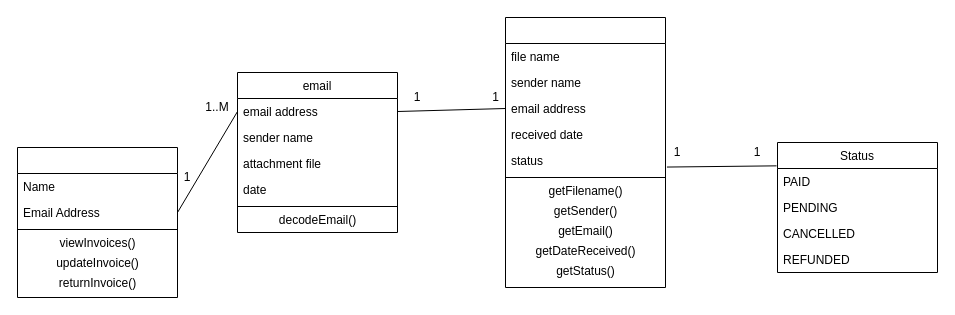
Image size: 955x315. Some labels were removed from this diagram. Each missing label, with the box of its shape:
Client: (16, 146, 178, 298)
Invoice: (504, 16, 666, 288)
